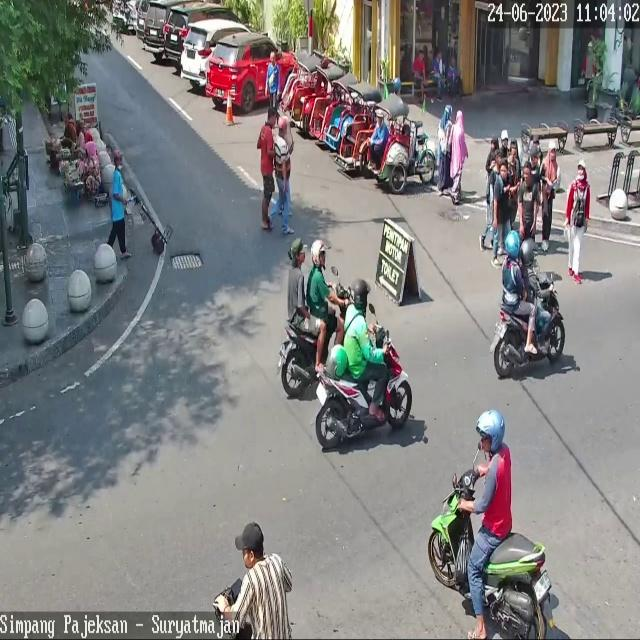bus: (428, 468, 554, 640), (315, 325, 413, 448), (278, 284, 351, 396), (489, 274, 566, 377)
motorcycle: (206, 33, 300, 112), (163, 4, 246, 64), (181, 21, 252, 87), (143, 0, 169, 53)
